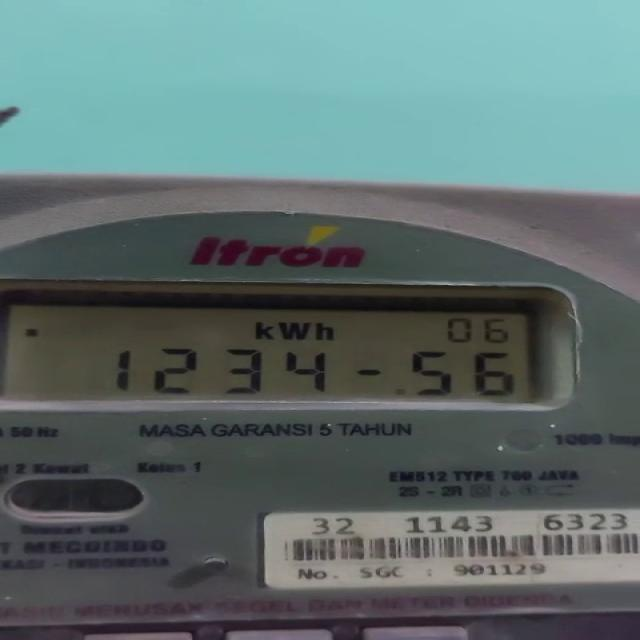LCD: (0, 288, 565, 410)
